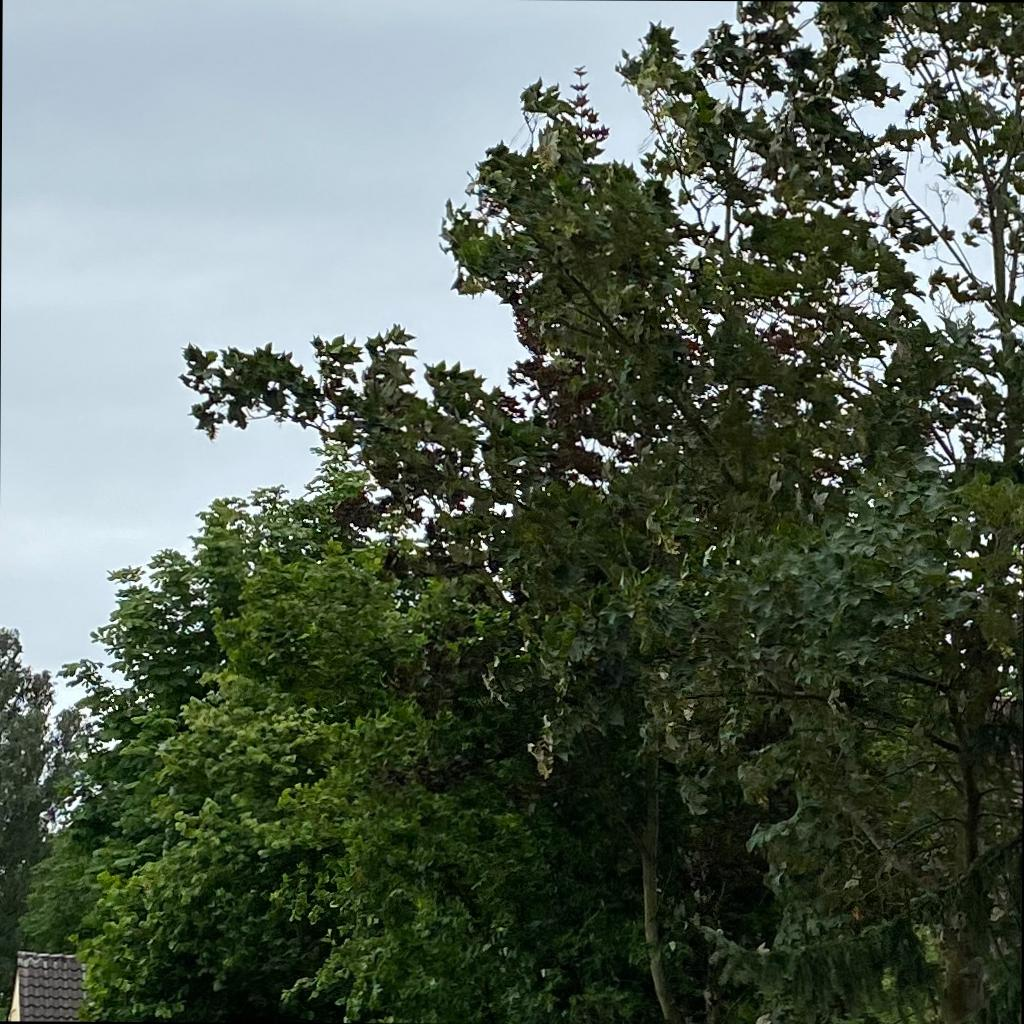tree: (178, 20, 987, 1024), (708, 1, 1023, 1023), (54, 476, 428, 881), (1, 627, 102, 933)
